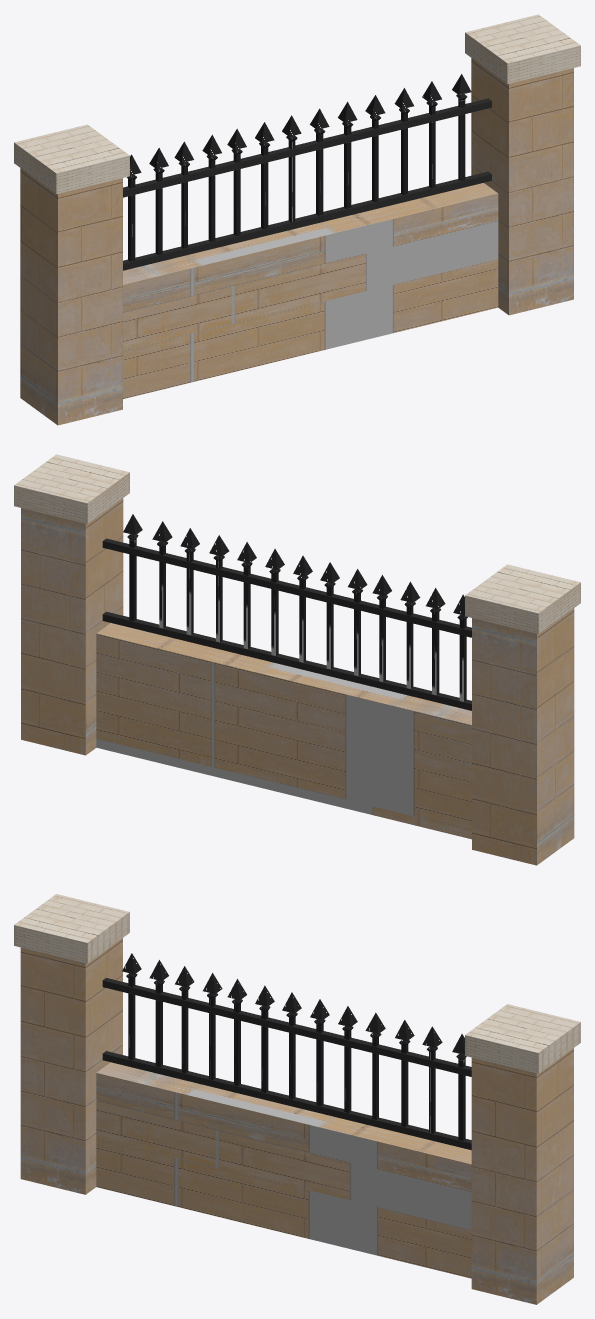
File: barda_jardin.obj
The picture shows the model from 3 angles, top to bottom: view 1: azimuth 30°, elevation 25°; view 2: azimuth 150°, elevation 25°; view 3: azimuth 330°, elevation 25°; orthographic projection.
Visible parts, largest first — view 1: pCube1, pCube2, pCube3, pCube5, pCube4, pCube21, pCube20, pCube15, pCube19, pCube12, pCube7, pCube8 (+8 smaller); view 2: pCube1, pCube2, pCube3, pCube4, pCube5, pCube20, pCube21, pCube10, pCube15, pCube17, pCube19, pCube9 (+8 smaller); view 3: pCube1, pCube3, pCube2, pCube4, pCube5, pCube20, pCube21, pCube12, pCube7, pCube6, pCube15, pCube17 (+8 smaller).
Boxes of the visible parts, x1,y1,x2,y2 form: pCube1: (123,183,498,398); pCube2: (20,168,122,425); pCube3: (471,58,573,315); pCube5: (14,124,129,194); pCube4: (465,14,580,83); pCube21: (123,98,491,197); pCube20: (123,171,491,270); pCube15: (338,101,357,208); pCube19: (452,74,471,180); pCube12: (310,108,329,215); pCube7: (149,148,168,254); pCube8: (202,134,221,241); pCube1: (96,623,471,839); pCube2: (472,608,574,865); pCube3: (21,498,123,755); pCube4: (14,454,129,523); pCube5: (465,564,580,633); pCube20: (102,611,471,710); pCube21: (102,538,471,637); pCube10: (320,562,339,669); pCube15: (237,542,256,648); pCube17: (180,528,199,635); pCube19: (123,514,142,621); pCube9: (400,581,420,688); pCube1: (96,1062,471,1278); pCube3: (471,1048,573,1304); pCube2: (20,938,122,1194); pCube4: (465,1004,580,1073); pCube5: (14,894,129,963); pCube20: (102,1051,471,1150); pCube21: (102,978,471,1076); pCube12: (310,999,329,1106); pCube7: (149,960,168,1066); pCube6: (122,953,141,1060); pCube15: (338,1006,357,1113); pCube17: (395,1020,414,1126).
Bounding box in the file's own units: 0.1163 × 0.054 × 0.0163.
Materials: 4 (4 with a texture image).
